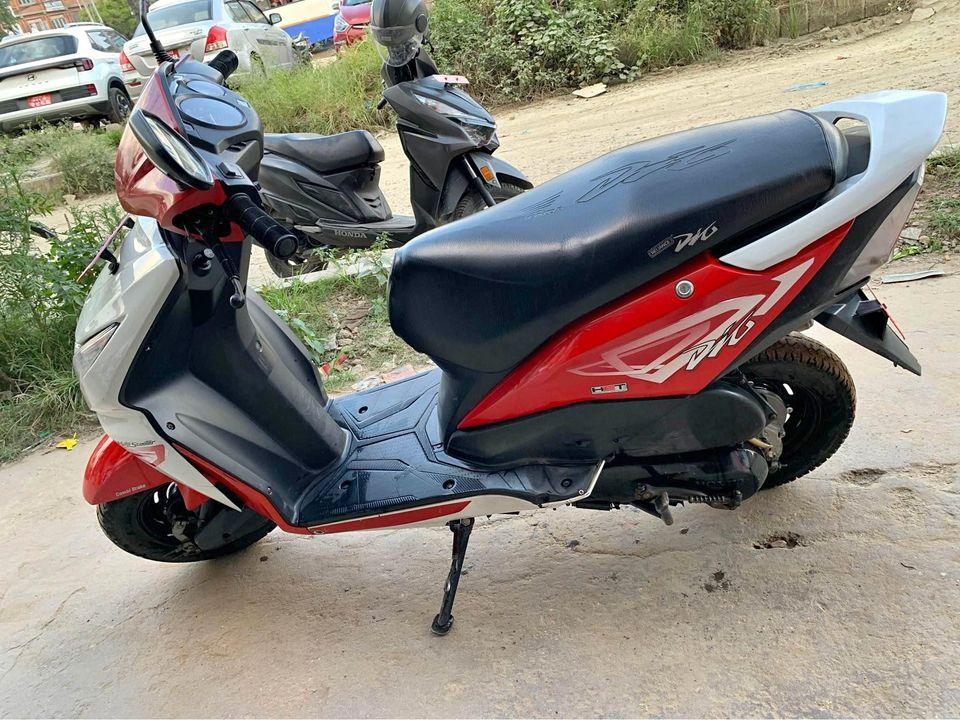scooter: (70, 37, 950, 568), (231, 39, 553, 263)
